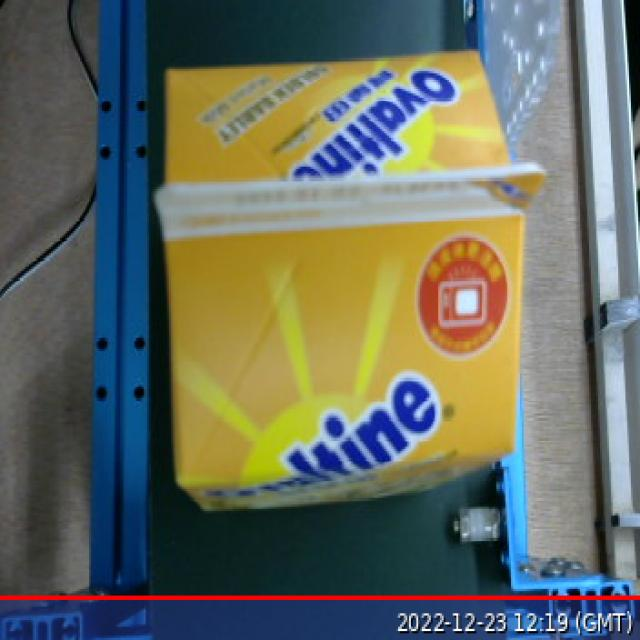non_white_jug: (146, 40, 558, 521)
